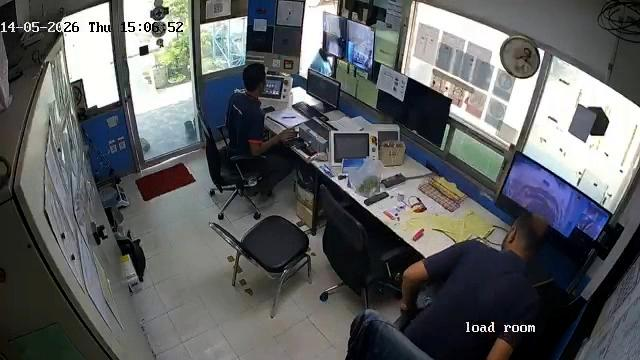Head: (501, 209, 551, 258), (242, 62, 268, 94)
People: (400, 208, 558, 360), (223, 59, 300, 212)
Phone: (261, 106, 276, 114)
